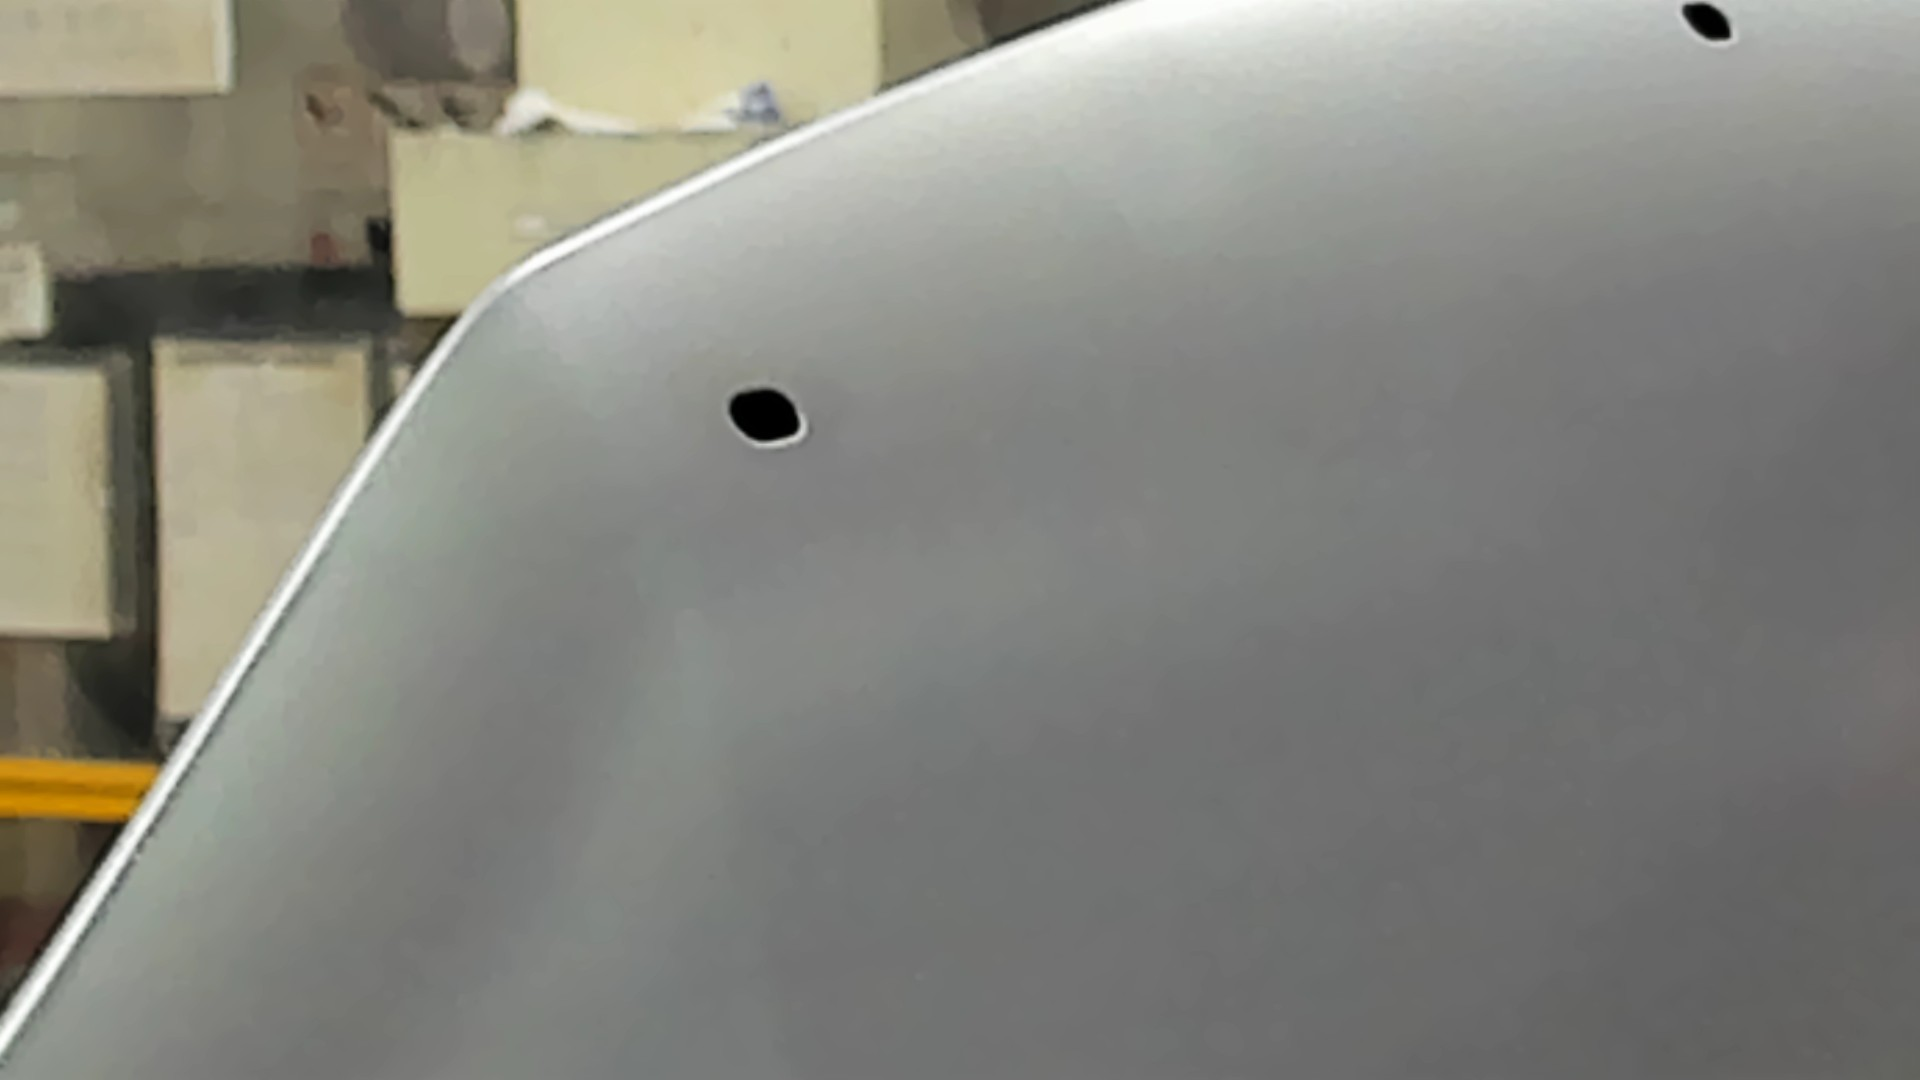amorfo: (717, 377, 810, 454), (1671, 1, 1739, 58)
